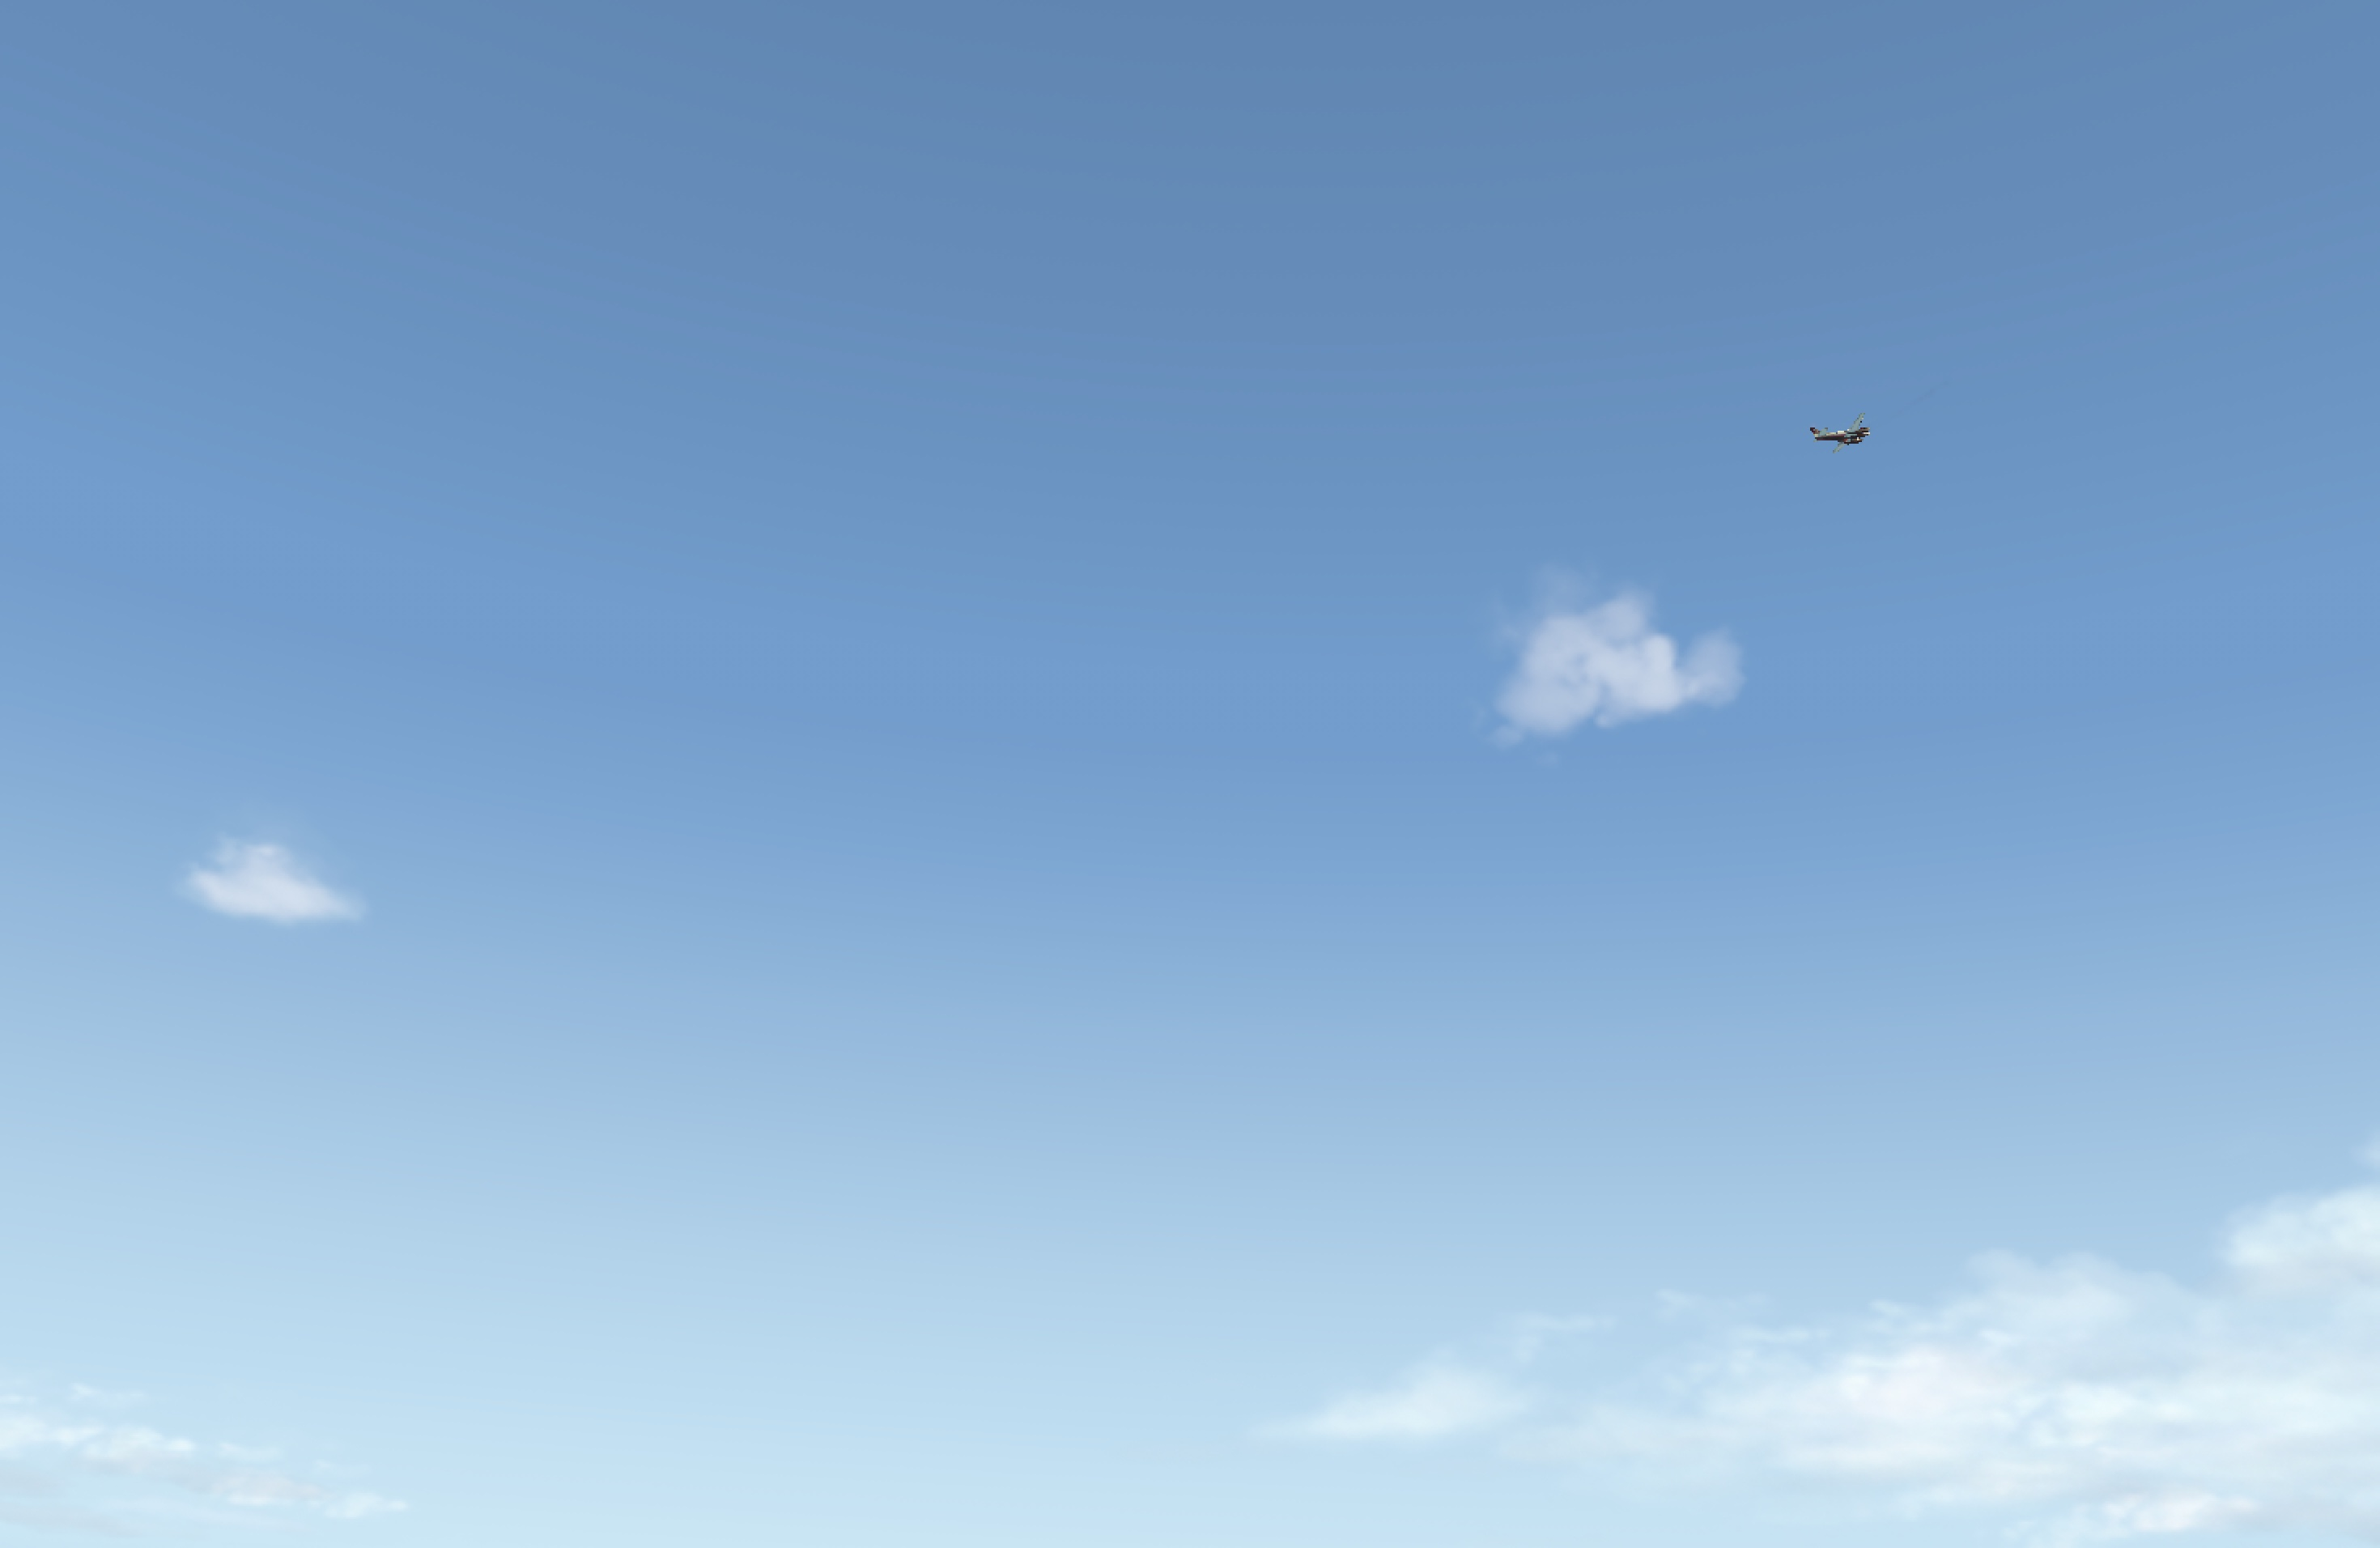aircraft: (1811, 423, 1893, 453)
